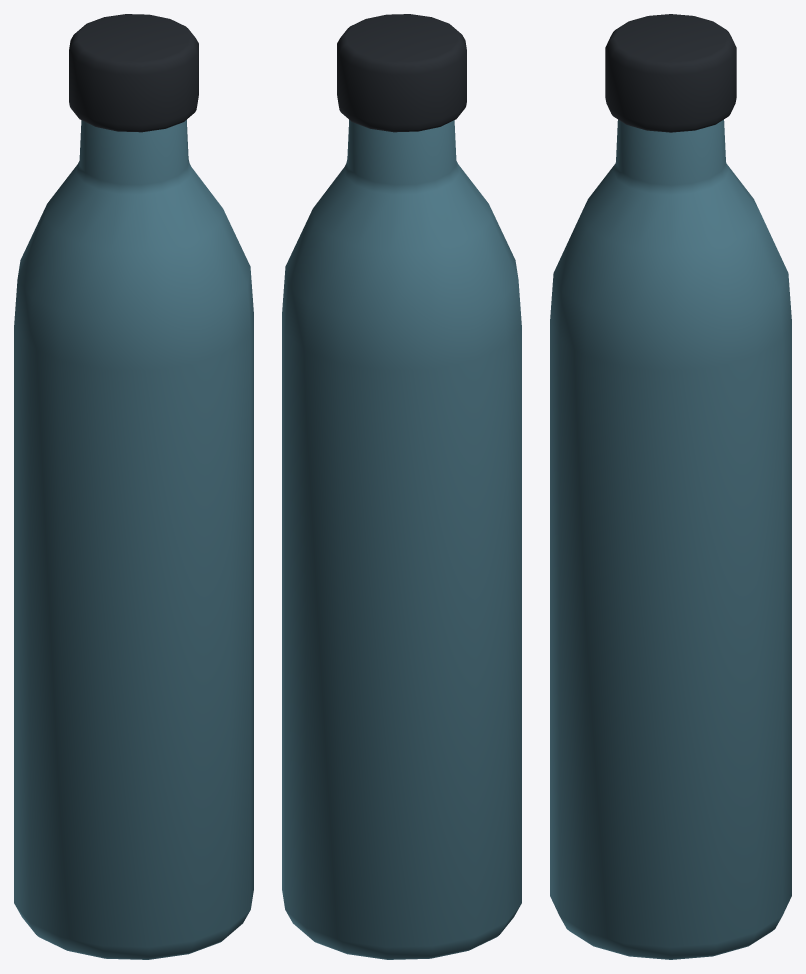
File: Bottle_Vodka.fbx
3 renders of one model, left to right at view 1: azimuth 30°, elevation 25°; view 2: azimuth 150°, elevation 25°; view 3: azimuth 270°, elevation 25°, orthographic.
Parts seen in each view (by area): view 1: Vodka_Glass, Vodka_Cap; view 2: Vodka_Glass, Vodka_Cap; view 3: Vodka_Glass, Vodka_Cap.
Boxes of the visible parts, <box> form: Vodka_Glass: <box>14,120,253,959</box>; Vodka_Cap: <box>69,14,198,132</box>; Vodka_Glass: <box>282,120,521,959</box>; Vodka_Cap: <box>337,14,466,132</box>; Vodka_Glass: <box>550,119,791,959</box>; Vodka_Cap: <box>605,14,736,132</box>.
Size of the model in its own units: 0.07 by 0.28 by 0.07.
